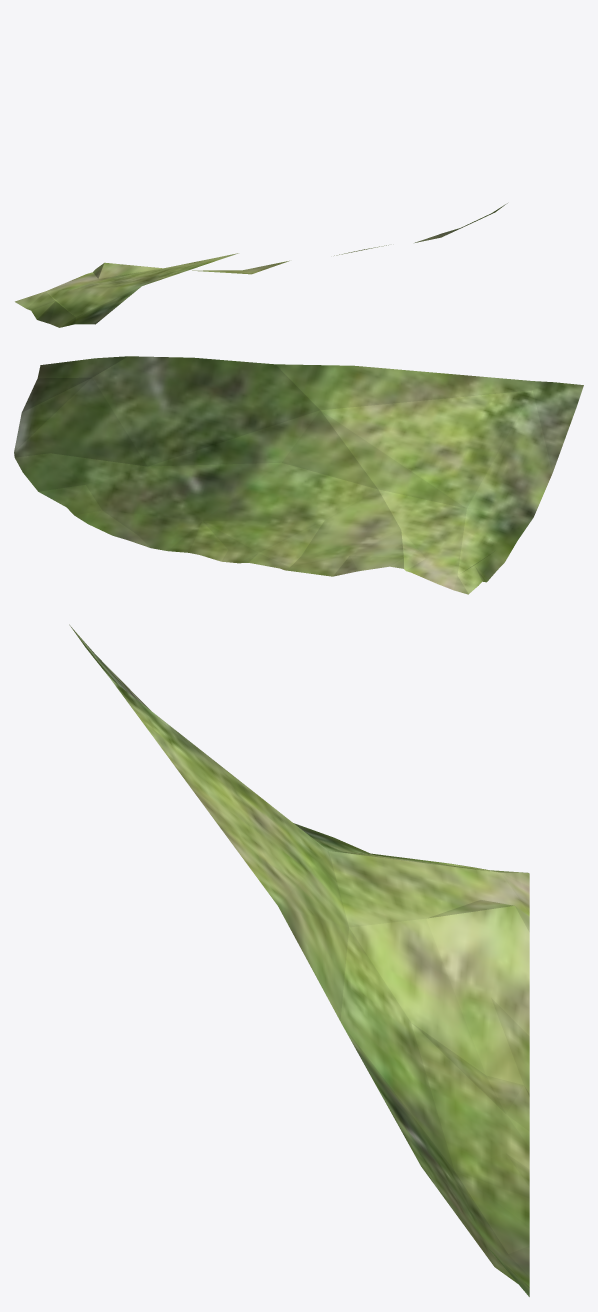
The picture shows the model from 3 angles, top to bottom: view 1: azimuth 30°, elevation 25°; view 2: azimuth 150°, elevation 25°; view 3: azimuth 270°, elevation 25°; orthographic projection. The views are drawn at different scales.
Bounding box in the file's own units: 18.1 × 5.94 × 7.95.
1 material, 1 textured.
